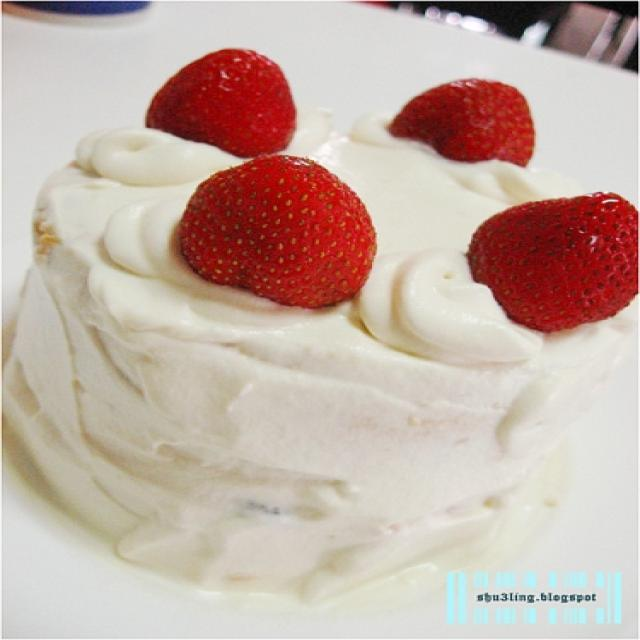蛋糕甜品: (12, 15, 637, 616)
